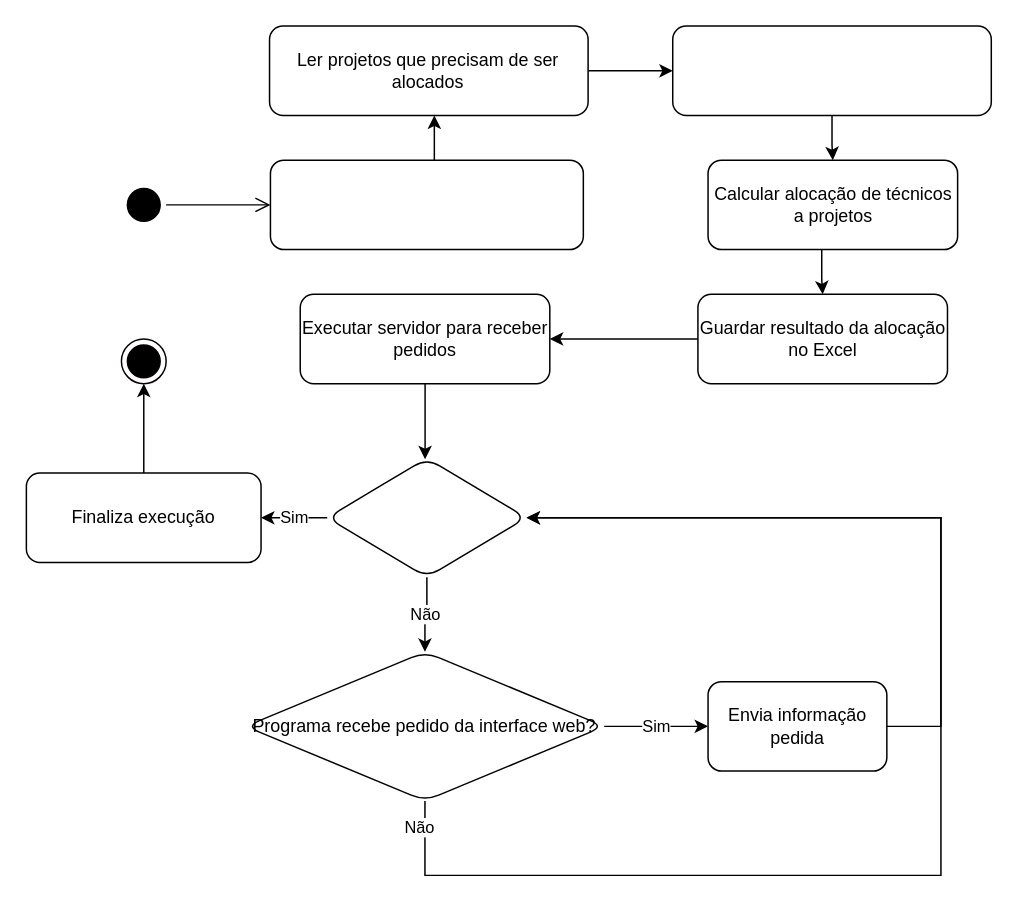
The diagram is 1018 pixels wide and 913 high, and some of its shapes have lost their labels. Here are the shapes that lost their labels. From the top down, the centre of each, then its label:
At point (831, 70): "Ler matriz de aptidão entre técnicos disponíveis e projetos por alocar".
At point (426, 204): "Ler carga atual de cada técnico disponível".
At point (426, 517): "Utilizador fecha programa?".
